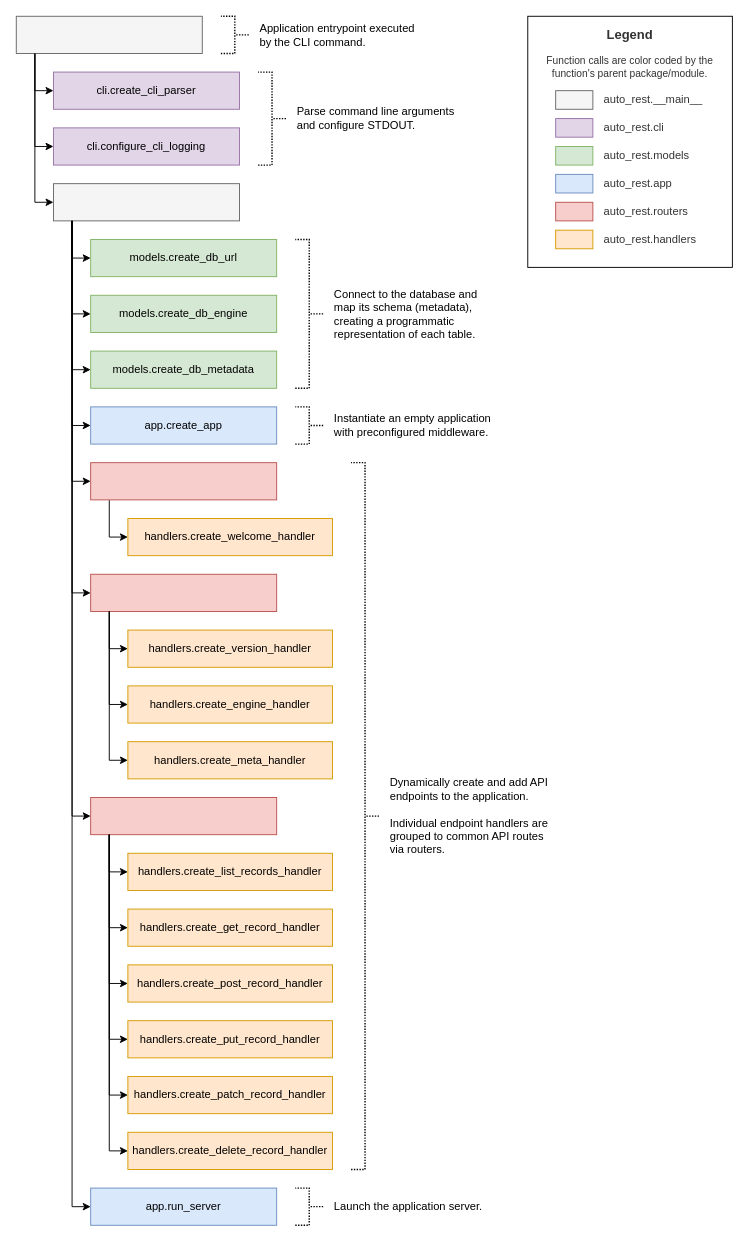
The diagram is 749 pixels wide and 1242 high, and some of its shapes have lost their labels. The box of each missing label's shape, as (x1, y1, x2, y2) in pixels:
__main__.main: (15, 15, 202, 53)
__main__.run_application: (53, 183, 239, 221)
routers.create_meta_router: (90, 573, 277, 611)
routers.create_model_router: (90, 797, 277, 835)
routers.create_welcome_router: (90, 462, 277, 500)
